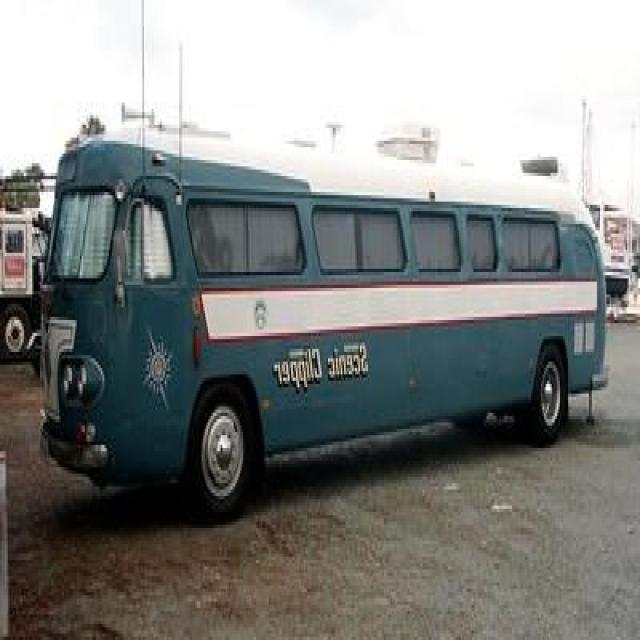Bus: (59, 182, 591, 459)
